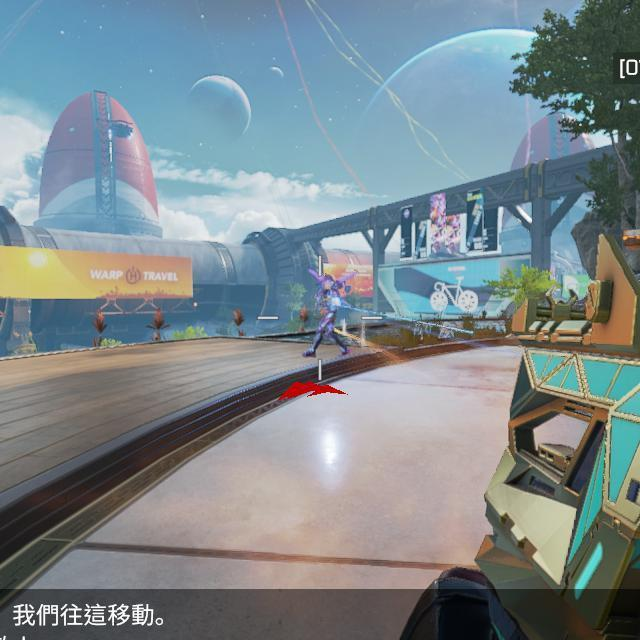avatar: (302, 268, 358, 360)
